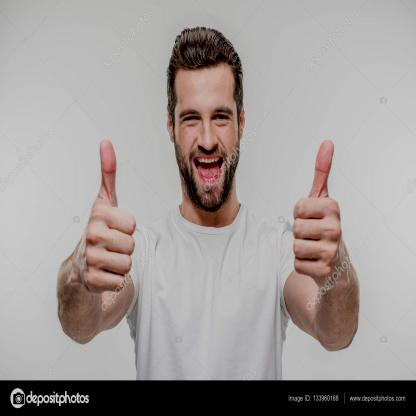Thumbs up: (281, 115, 358, 308), (68, 120, 140, 303)
